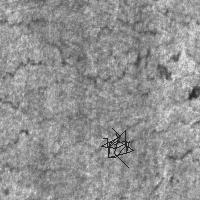crazing: (1, 4, 182, 72), (1, 97, 156, 174), (1, 43, 154, 112), (127, 118, 200, 163), (101, 128, 133, 167)
